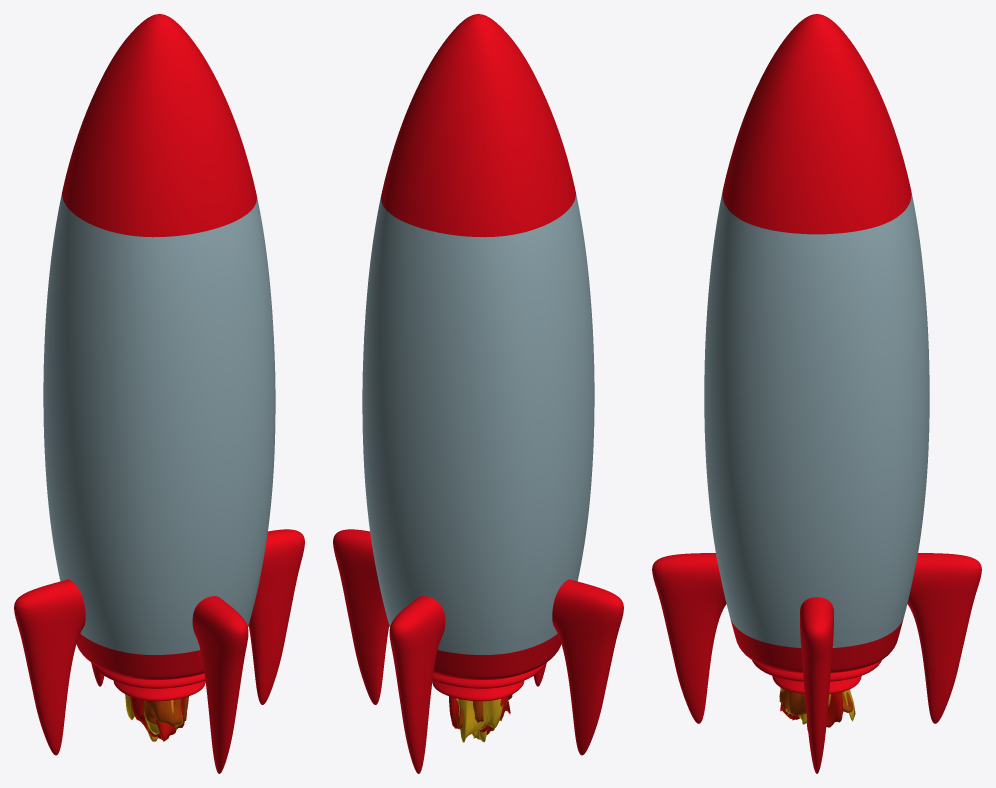
File: Missile v5.fbx
3 views of the same model, side by side, from view 1: azimuth 30°, elevation 25°; view 2: azimuth 150°, elevation 25°; view 3: azimuth 270°, elevation 25° (orthographic).
Parts seen in each view (by area): view 1: Rocket, Fire; view 2: Rocket, Fire; view 3: Rocket, Fire.
Boxes of the visible parts, <box> form: Rocket: <box>14,14,304,773</box>; Fire: <box>125,694,188,741</box>; Rocket: <box>333,14,623,773</box>; Fire: <box>449,694,512,742</box>; Rocket: <box>652,14,981,773</box>; Fire: <box>779,687,855,730</box>.
Size of the model in its own units: 666 by 1602 by 666.
